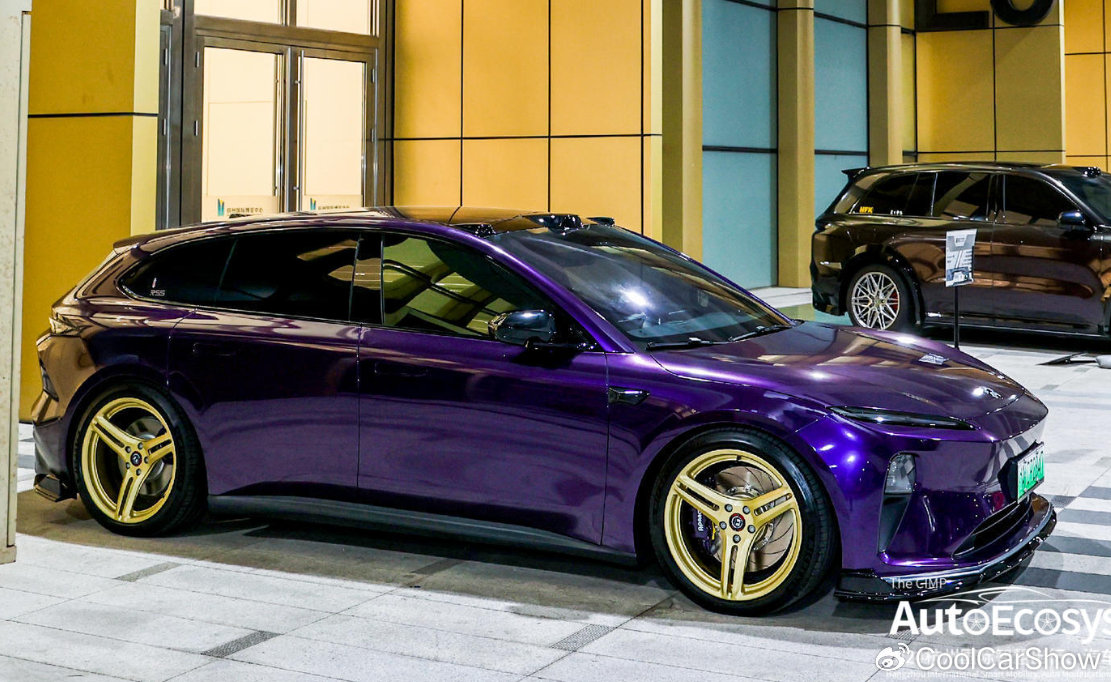other: (33, 200, 1050, 617)
